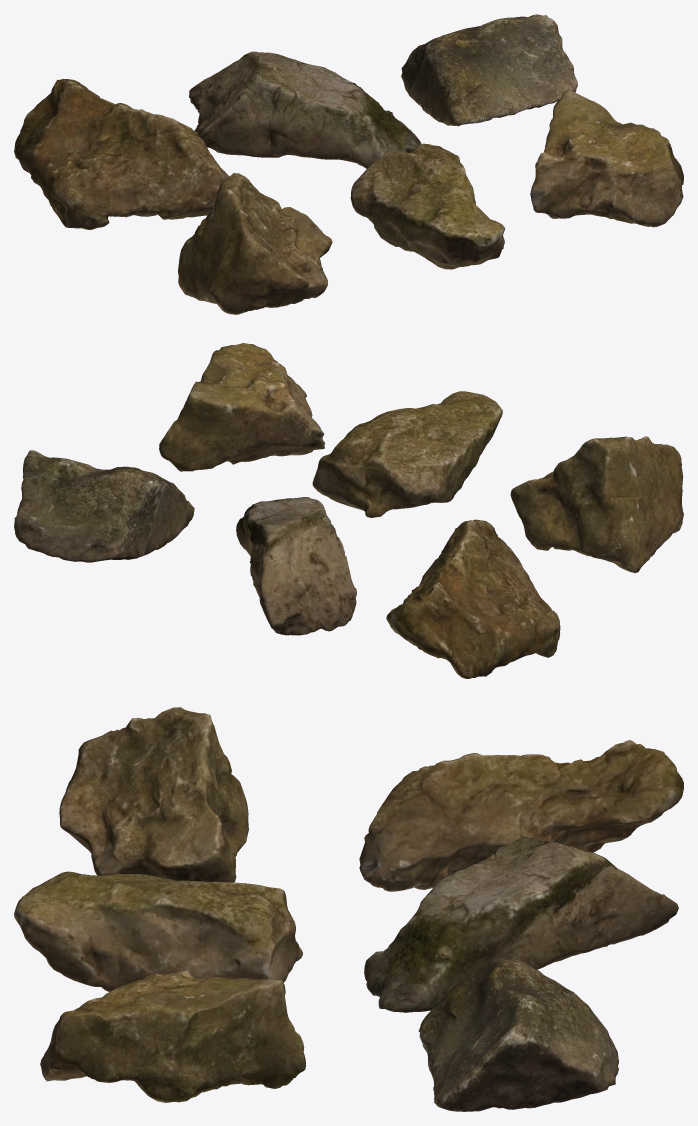
The model's file is rock_moss_set_01.glb.
3 views of the same model, one above another, from view 1: azimuth 30°, elevation 25°; view 2: azimuth 150°, elevation 25°; view 3: azimuth 270°, elevation 25° (orthographic). The views are drawn at different scales.
Visible parts, largest first — view 1: rock_moss_set_01_rock01; view 2: rock_moss_set_01_rock01; view 3: rock_moss_set_01_rock01.
Boxes of the visible parts, bbox=[...] form: rock_moss_set_01_rock01: bbox=[14, 14, 683, 314]; rock_moss_set_01_rock01: bbox=[14, 343, 683, 678]; rock_moss_set_01_rock01: bbox=[14, 707, 683, 1111].
Bounding box in the file's own units: 8 × 1.77 × 6.94.
Materials: 1 (1 with a texture image).
